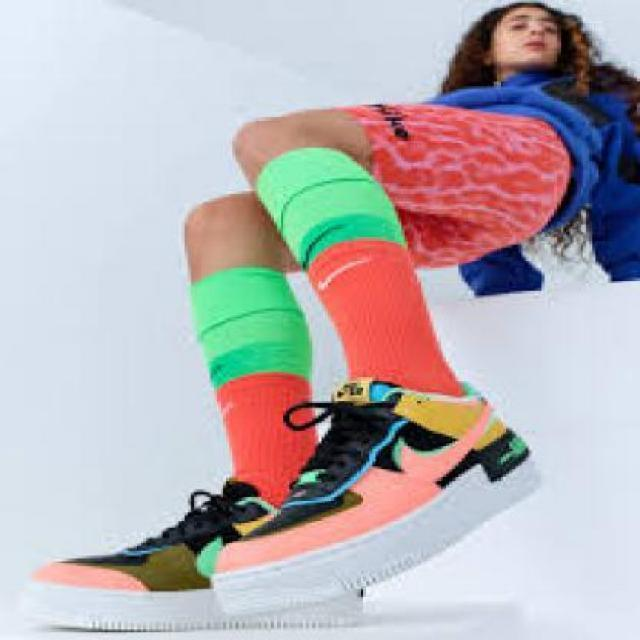Nike: (388, 395, 490, 477), (312, 255, 371, 289)
